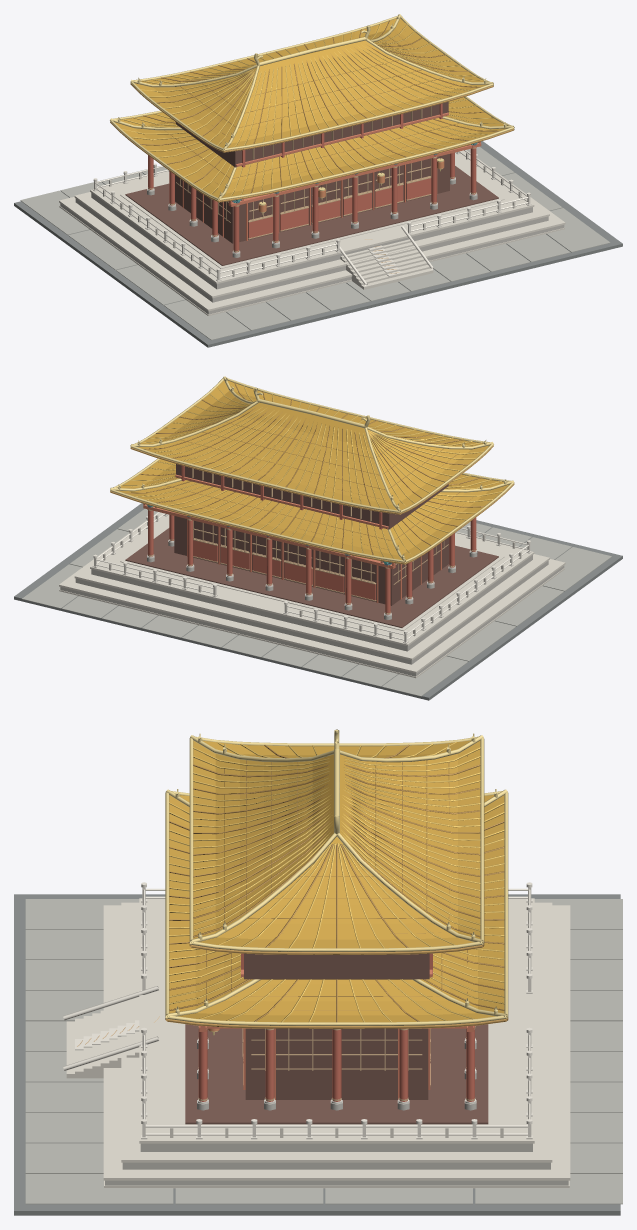
The model's file is palace.glb.
The picture shows the model from 3 angles, top to bottom: view 1: azimuth 30°, elevation 25°; view 2: azimuth 150°, elevation 25°; view 3: azimuth 270°, elevation 25°; orthographic projection. The views are drawn at different scales.
Parts seen in each view (by area): view 1: roof_honey_glaze, terrace_warm_marble, paving_sandstone, shadowed_rosewood, roof_tile_light, ridge_imperial_gold, courtyard_basalt, plinth_shadow, roof_tile_shadow, cinnabar_columns, rail_carved_marble, vermilion_joinery (+1 smaller); view 2: roof_honey_glaze, terrace_warm_marble, shadowed_rosewood, paving_sandstone, plinth_shadow, roof_tile_light, ridge_imperial_gold, roof_tile_shadow, cinnabar_columns, courtyard_basalt, rail_carved_marble, vermilion_joinery (+1 smaller); view 3: roof_honey_glaze, terrace_warm_marble, paving_sandstone, shadowed_rosewood, roof_tile_light, ridge_imperial_gold, courtyard_basalt, roof_tile_shadow, plinth_shadow, rail_carved_marble, cinnabar_columns, lattice_goldwood (+1 smaller).
Part boxes in pixels (x1,y1,x2,y2): roof_honey_glaze: [115, 18, 507, 197]; terrace_warm_marble: [59, 150, 565, 315]; paving_sandstone: [20, 146, 610, 340]; shadowed_rosewood: [125, 102, 498, 265]; roof_tile_light: [122, 23, 502, 196]; ridge_imperial_gold: [110, 14, 514, 214]; courtyard_basalt: [14, 141, 622, 347]; plinth_shadow: [60, 178, 564, 314]; roof_tile_shadow: [110, 20, 514, 202]; cinnabar_columns: [148, 103, 476, 252]; rail_carved_marble: [92, 150, 531, 285]; vermilion_joinery: [175, 112, 481, 240]; roof_honey_glaze: [117, 380, 509, 559]; terrace_warm_marble: [59, 512, 565, 678]; shadowed_rosewood: [125, 464, 498, 627]; paving_sandstone: [22, 508, 611, 696]; plinth_shadow: [60, 540, 564, 676]; roof_tile_light: [121, 385, 502, 558]; ridge_imperial_gold: [110, 376, 514, 562]; roof_tile_shadow: [110, 382, 514, 564]; cinnabar_columns: [148, 465, 476, 614]; courtyard_basalt: [14, 503, 622, 700]; rail_carved_marble: [92, 512, 531, 643]; vermilion_joinery: [143, 474, 441, 602]; roof_honey_glaze: [169, 740, 504, 1022]; terrace_warm_marble: [66, 898, 570, 1188]; paving_sandstone: [25, 899, 622, 1204]; shadowed_rosewood: [185, 953, 488, 1124]; roof_tile_light: [167, 741, 506, 1022]; ridge_imperial_gold: [165, 729, 508, 1035]; courtyard_basalt: [14, 894, 620, 1215]; roof_tile_shadow: [165, 744, 508, 1028]; plinth_shadow: [105, 1039, 568, 1185]; rail_carved_marble: [63, 882, 532, 1139]; cinnabar_columns: [198, 953, 474, 1101]; lattice_goldwood: [77, 1016, 475, 1100].
Bounding box in the file's own units: 1.01 × 0.4222 × 0.8194.
